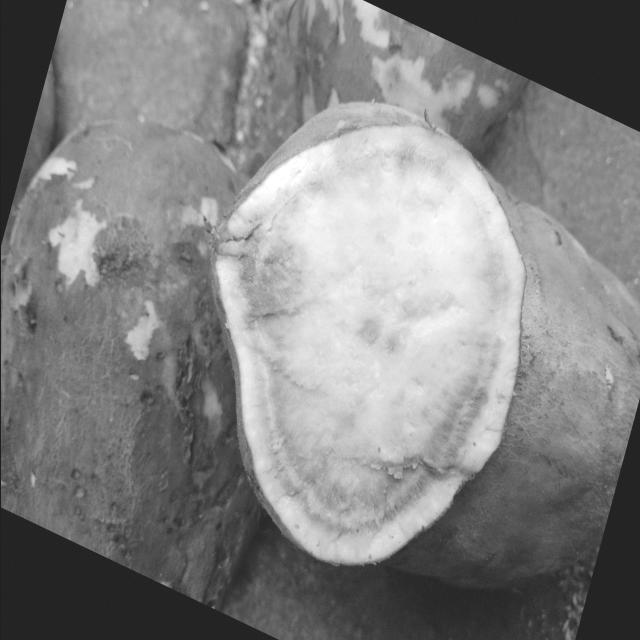Healthy Sweet Potato: (211, 103, 524, 565)
